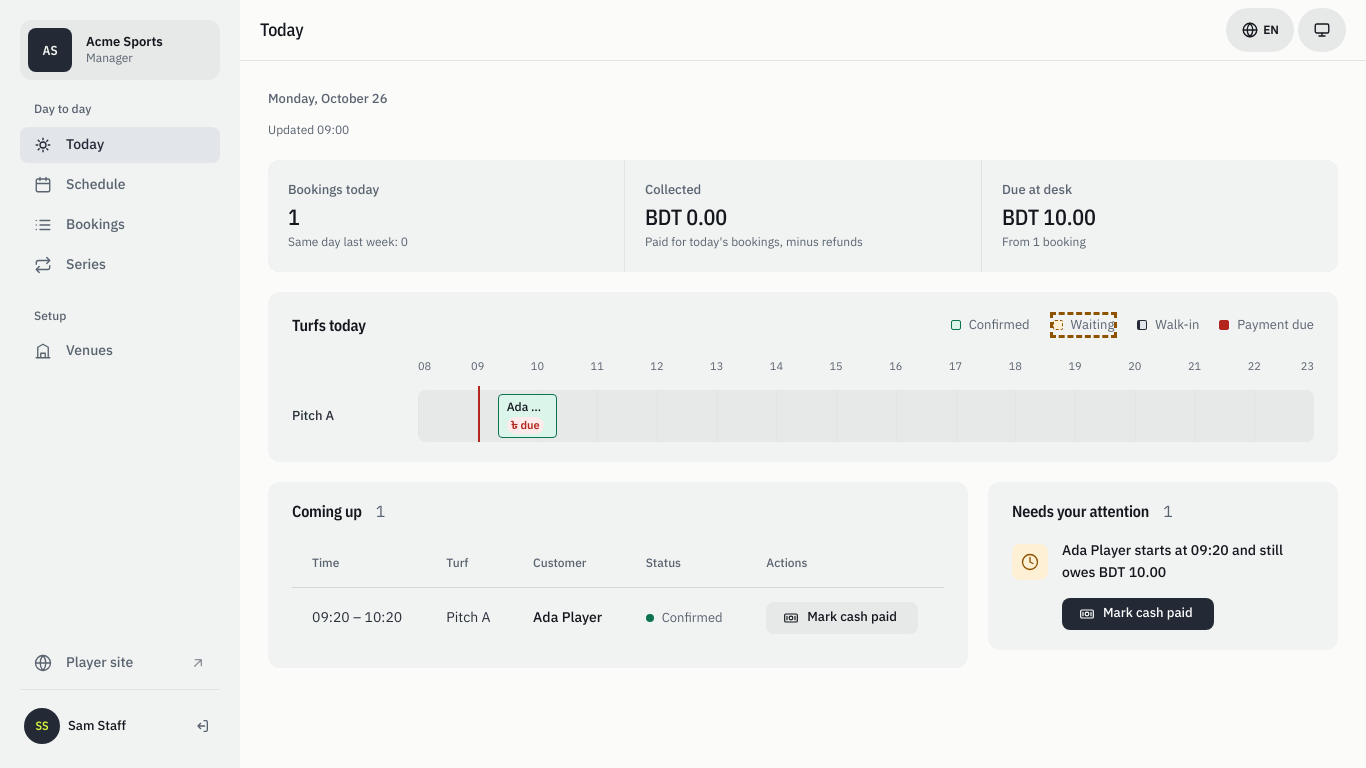
Test case: Today page › Attention flags money due on a game starting soon
Click the button "Mark cash paid" below "Needs your attention": (1138,614) [1062,598,1214,630]
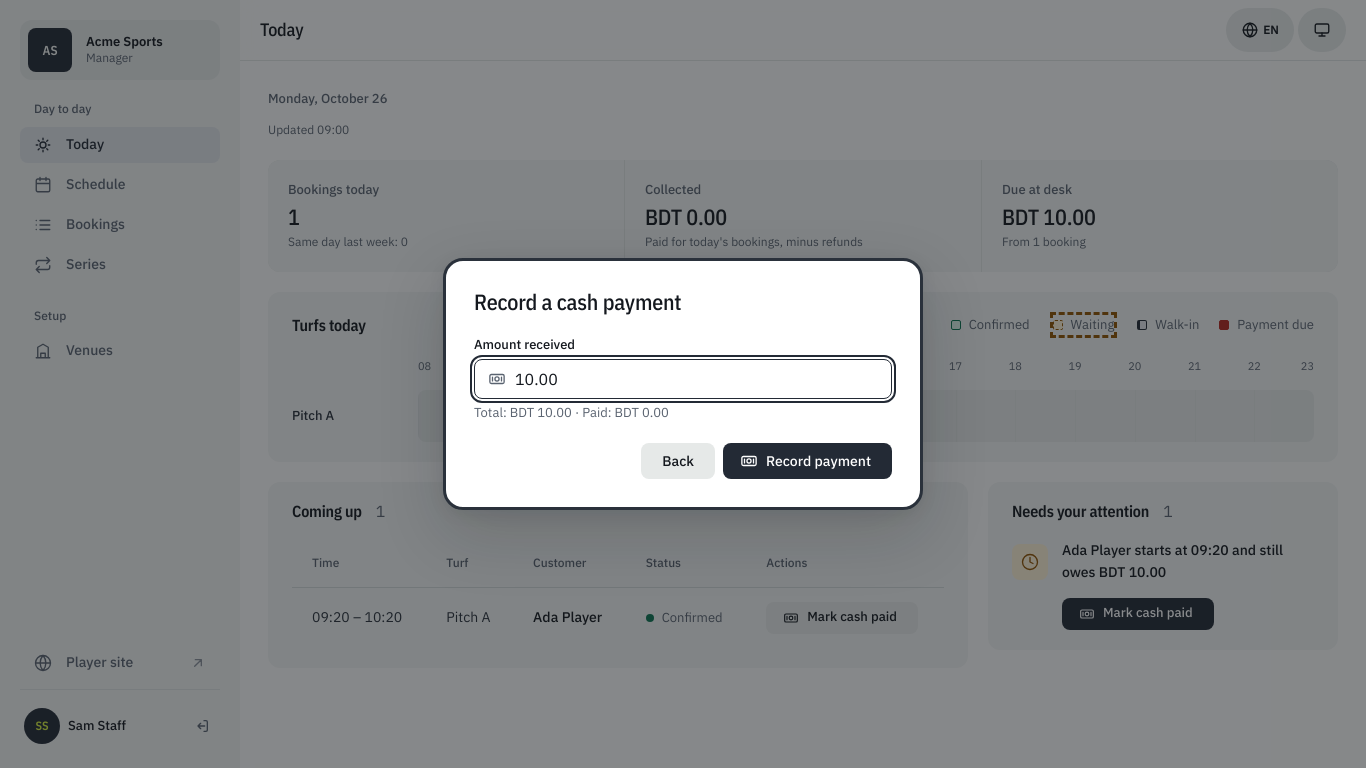
Expected: the dialog "Record a cash payment" is shown, [443,258,923,510]
